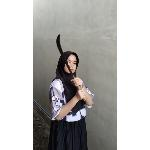Golok: (55, 32, 87, 98)
